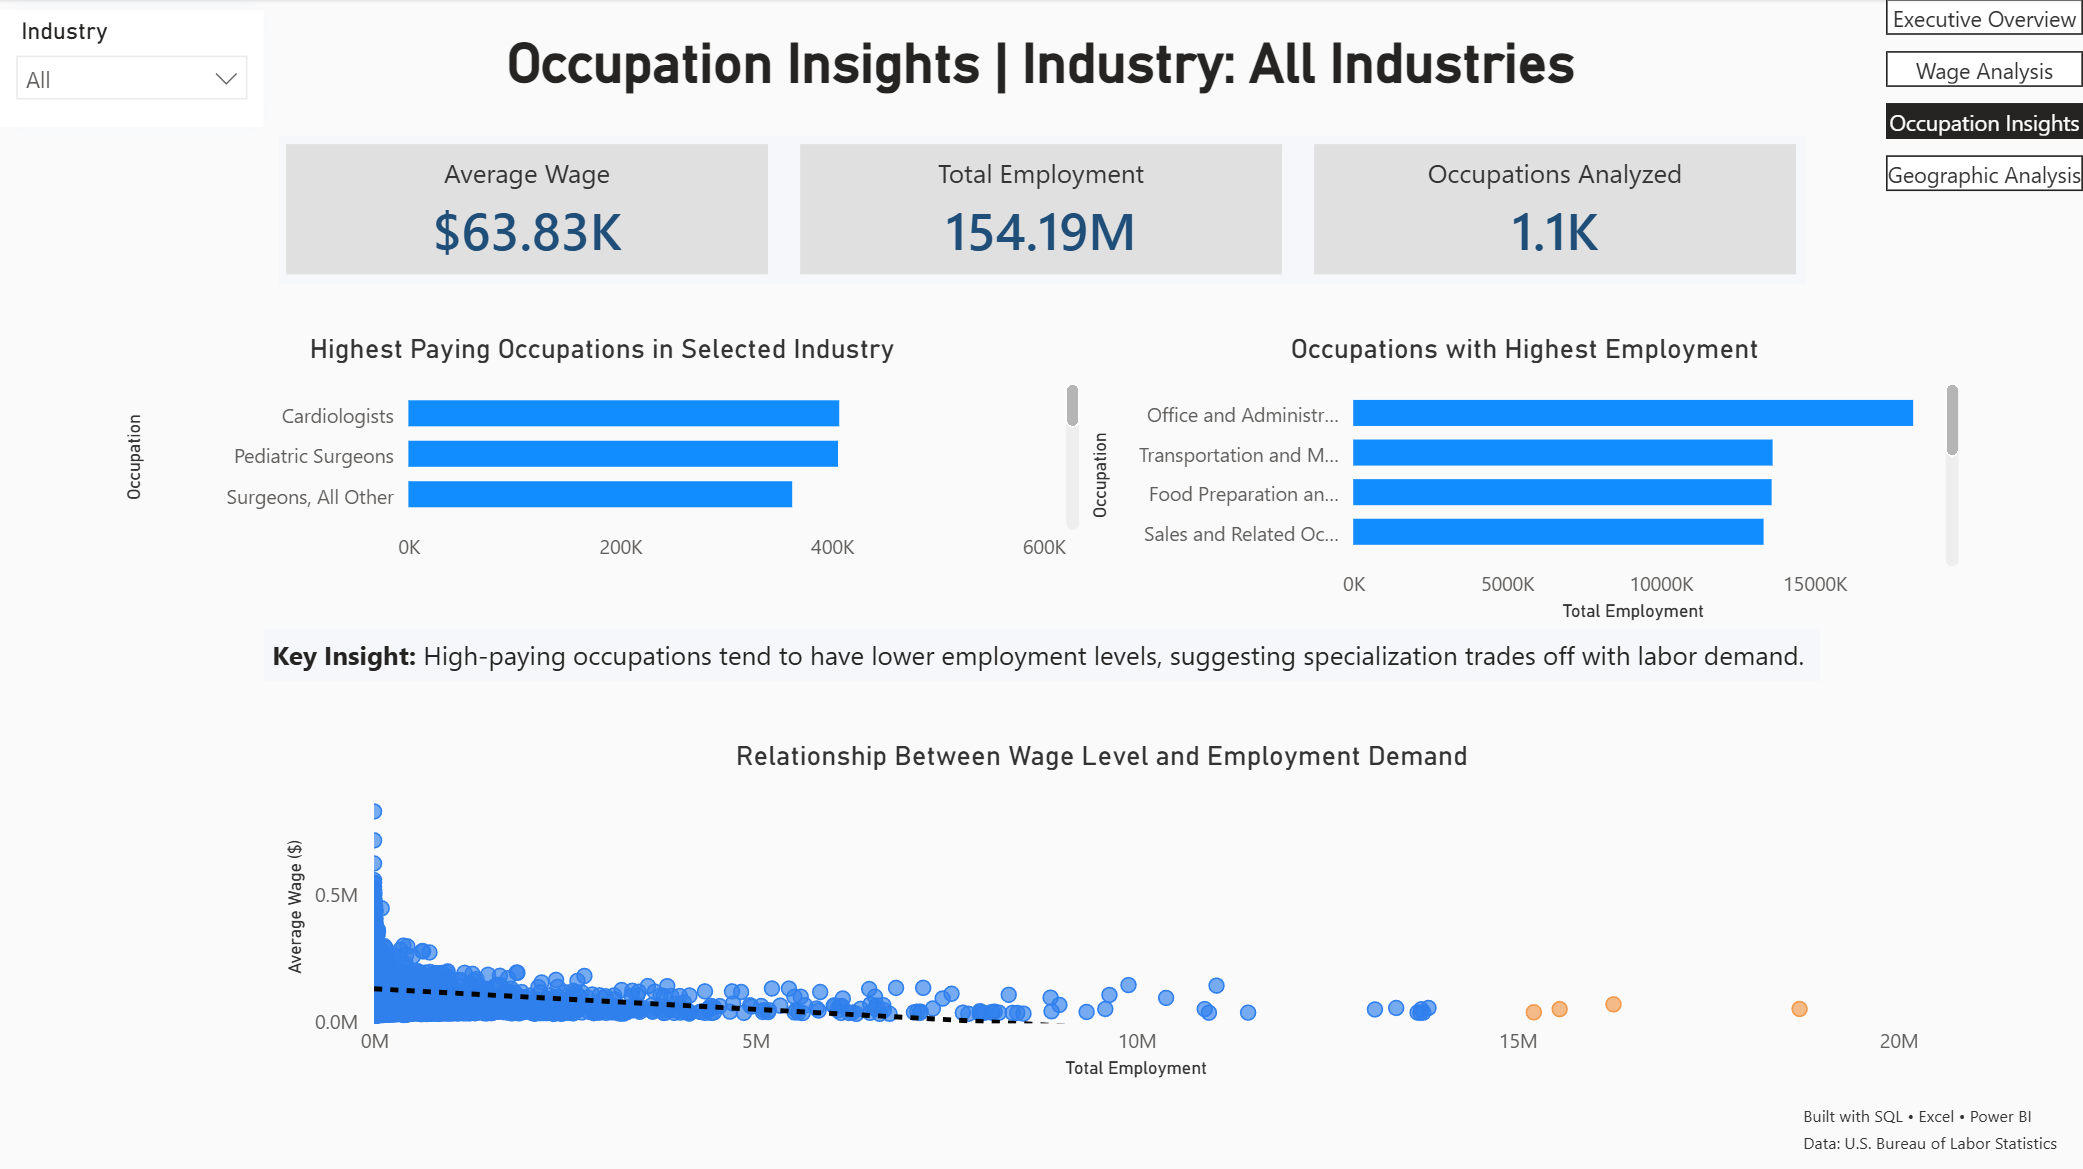

This screenshot's page, from the dashboard's own definition file:
{"tool":"powerbi","page":{"name":"Occupation Insights","canvas":[1280,720],"ordinal":2},"visuals":[{"type":"shape","box":[0,0,166.2,84.4],"z":0},{"type":"cardVisual","title":"Average Salary","fields":{"Data":["Avg(cleaned_data.Salary)"]},"box":[170.8,84.4,306.2,91],"z":0,"group":"g1"},{"type":"cardVisual","title":"Median Salary","fields":{"Data":["cleaned_data.Total Employment"]},"box":[486.6,84.4,306.2,91],"z":1000,"group":"g1"},{"type":"shape","box":[162,386.7,956.1,32.1],"z":1000},{"type":"shape","box":[0,0,162.2,84.2],"z":2000},{"type":"cardVisual","fields":{"Data":["cleaned_data.Total Occupations"]},"box":[802.3,84.4,306.2,91],"z":2000,"group":"g1"},{"type":"textbox","box":[296.4,0,687.2,106],"z":3000},{"type":"shape","box":[171.1,84.4,937.8,91],"z":4000},{"type":"clusteredBarChart","title":"Highest Paying Occupations in Selected Industry","fields":{"Category":["cleaned_data.Occupation"],"Y":["Avg(cleaned_data.Salary)"]},"box":[72,205.1,596.2,150.5],"z":4000,"group":"g2"},{"type":"scatterChart","title":"Relationship Between Wage Level and Employment Demand","fields":{"Y":["cleaned_data.annual_mean_wage"],"X":["cleaned_data.WA Employment"]},"box":[170.8,454.8,1012.4,212.7],"z":5000},{"type":"textbox","box":[1102.7,667.8,177.5,52.2],"z":6000},{"type":"pageNavigator","box":[1158.4,0,121.6,119.2],"z":7000},{"type":"group","id":"g1","title":"Group 1","box":[170.8,84.4,938.4,91],"z":8000},{"type":"slicer","fields":{"Values":["cleaned_data.Industry"]},"box":[0,6.5,161.6,72],"z":9000},{"type":"group","id":"g2","title":"Group 2","box":[72,204.8,1136,181.9],"z":10000},{"type":"clusteredBarChart","title":"Occupations with Highest Employment","fields":{"Category":["cleaned_data.Occupation"],"Y":["cleaned_data.Total Employment"]},"box":[665.4,204.8,543,181.9],"z":10000,"group":"g2"},{"type":"textbox","box":[162,386.7,956.1,32.1],"z":11000}]}

Visuals, with their boxes in screenshot pixels (x1, y1, x2, y2), scaled from the page's 1280x720 canvas onto the 2083x1169 screenshot:
shape: left=0, top=0, right=270, bottom=137
"Average Salary" cardVisual: left=278, top=137, right=776, bottom=285
"Median Salary" cardVisual: left=792, top=137, right=1290, bottom=285
shape: left=264, top=628, right=1820, bottom=680
shape: left=0, top=0, right=264, bottom=137
cardVisual - cleaned_data.Total Occupations: left=1306, top=137, right=1804, bottom=285
textbox: left=482, top=0, right=1601, bottom=172
shape: left=278, top=137, right=1805, bottom=285
"Highest Paying Occupations in Selected Industry" clusteredBarChart: left=117, top=333, right=1087, bottom=577
"Relationship Between Wage Level and Employment Demand" scatterChart: left=278, top=738, right=1925, bottom=1084
textbox: left=1794, top=1084, right=2082, bottom=1168
pageNavigator: left=1885, top=0, right=2082, bottom=194
"Group 1" group: left=278, top=137, right=1805, bottom=285
slicer - cleaned_data.Industry: left=0, top=11, right=263, bottom=127
"Group 2" group: left=117, top=333, right=1966, bottom=628
"Occupations with Highest Employment" clusteredBarChart: left=1083, top=333, right=1966, bottom=628
textbox: left=264, top=628, right=1820, bottom=680
